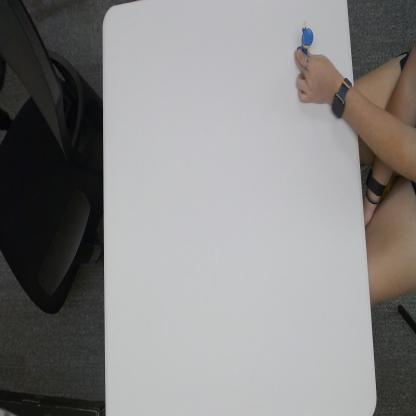Hand: (294, 44, 336, 108)
